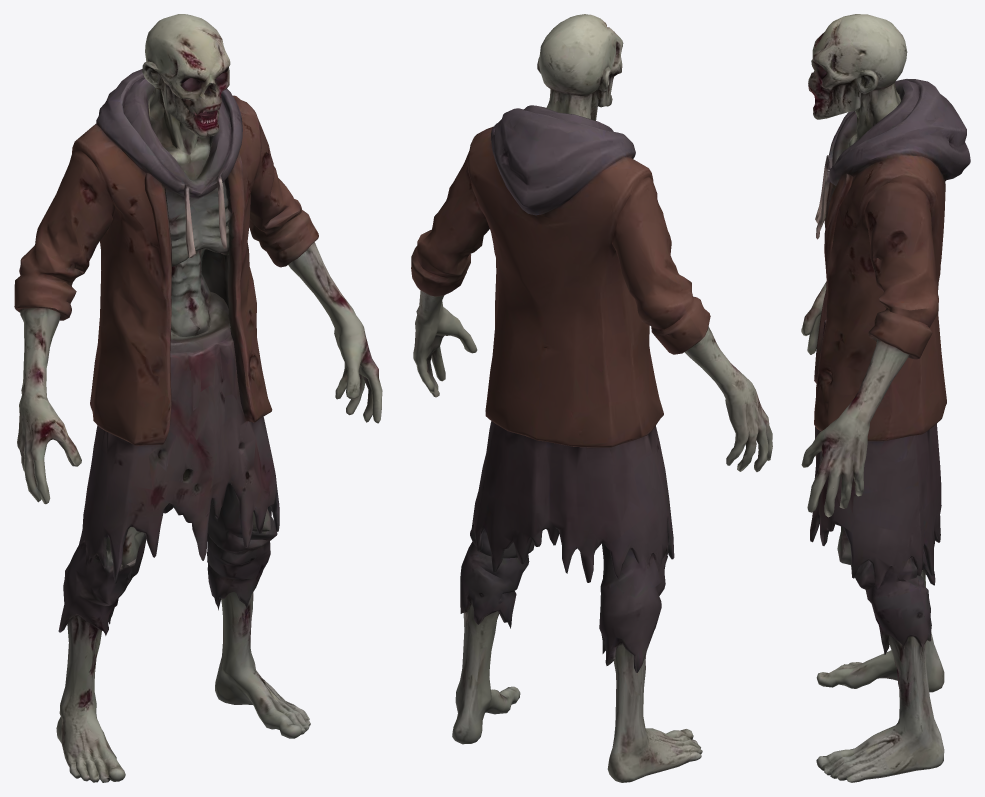
The model's file is zombie_walker_hodyachiy_idle.glb.
The picture shows the model from 3 angles, left to right: view 1: azimuth 30°, elevation 25°; view 2: azimuth 150°, elevation 25°; view 3: azimuth 270°, elevation 25°; orthographic projection. The views are drawn at different scales.
Visible parts, largest first — view 1: tripo_node_4796db81-c8d2-4708-b9a2-e54134982e2a; view 2: tripo_node_4796db81-c8d2-4708-b9a2-e54134982e2a; view 3: tripo_node_4796db81-c8d2-4708-b9a2-e54134982e2a.
Boxes of the visible parts, x1,y1,x2,y2 form: tripo_node_4796db81-c8d2-4708-b9a2-e54134982e2a: [14, 14, 382, 782]; tripo_node_4796db81-c8d2-4708-b9a2-e54134982e2a: [411, 14, 772, 782]; tripo_node_4796db81-c8d2-4708-b9a2-e54134982e2a: [801, 14, 970, 782].
Bounding box in the file's own units: 0.9077 × 1.8 × 0.3882.
1 material, 1 textured.
